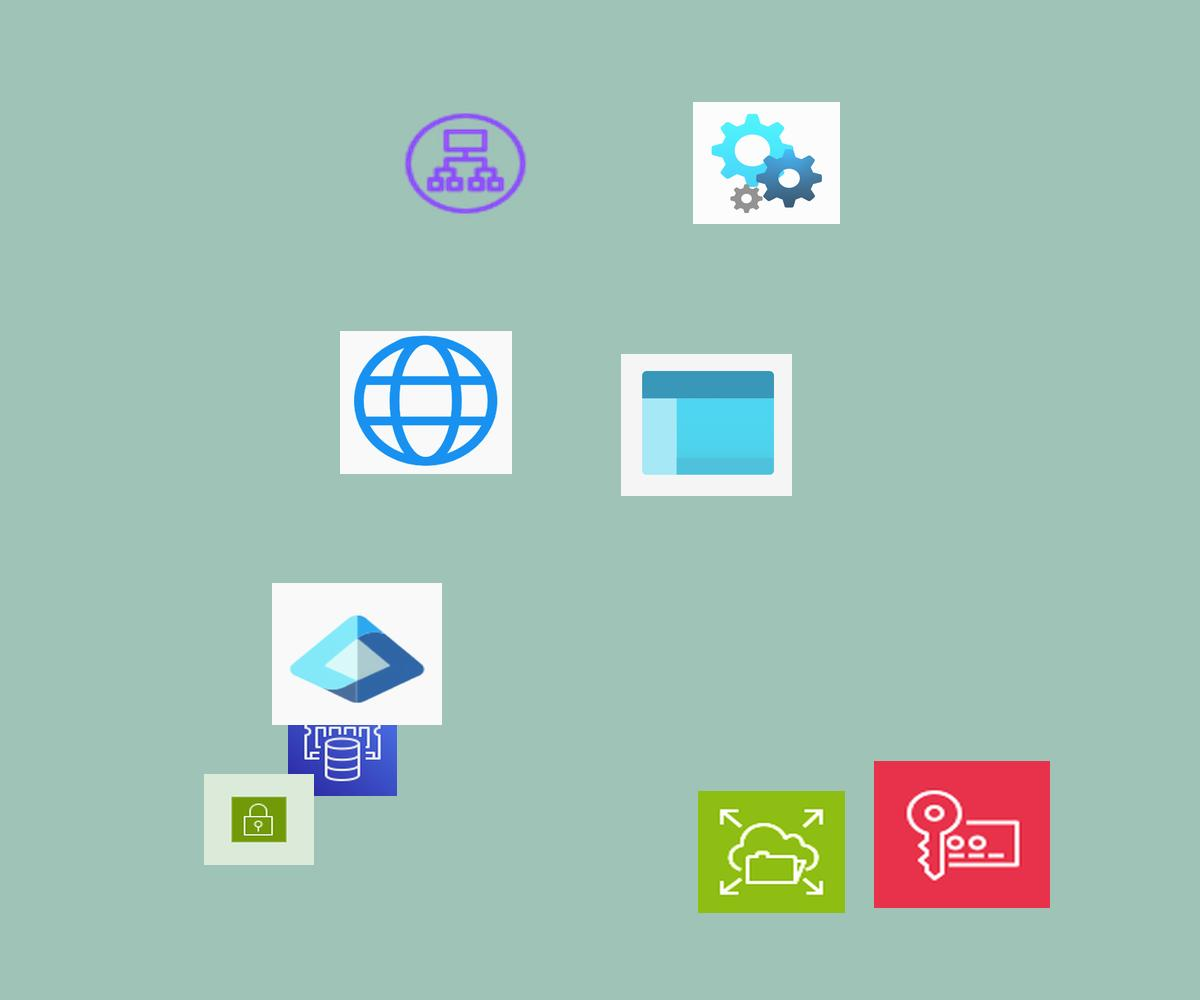AWS-EFS: (698, 791, 845, 913)
AWS-ElastiCache: (288, 705, 397, 796)
AWS-Key-Management-Service: (874, 761, 1050, 908)
AWS-Public-subnet: (204, 774, 314, 865)
AWS-Res_Elastic-Load-Balancing_Application-Load-Balancer: (400, 109, 531, 218)
Azure_api: (693, 102, 840, 224)
Azure_http: (340, 331, 512, 474)
Azure_management-portal: (621, 354, 792, 496)
Azure_microsoft_entra: (272, 583, 442, 725)
